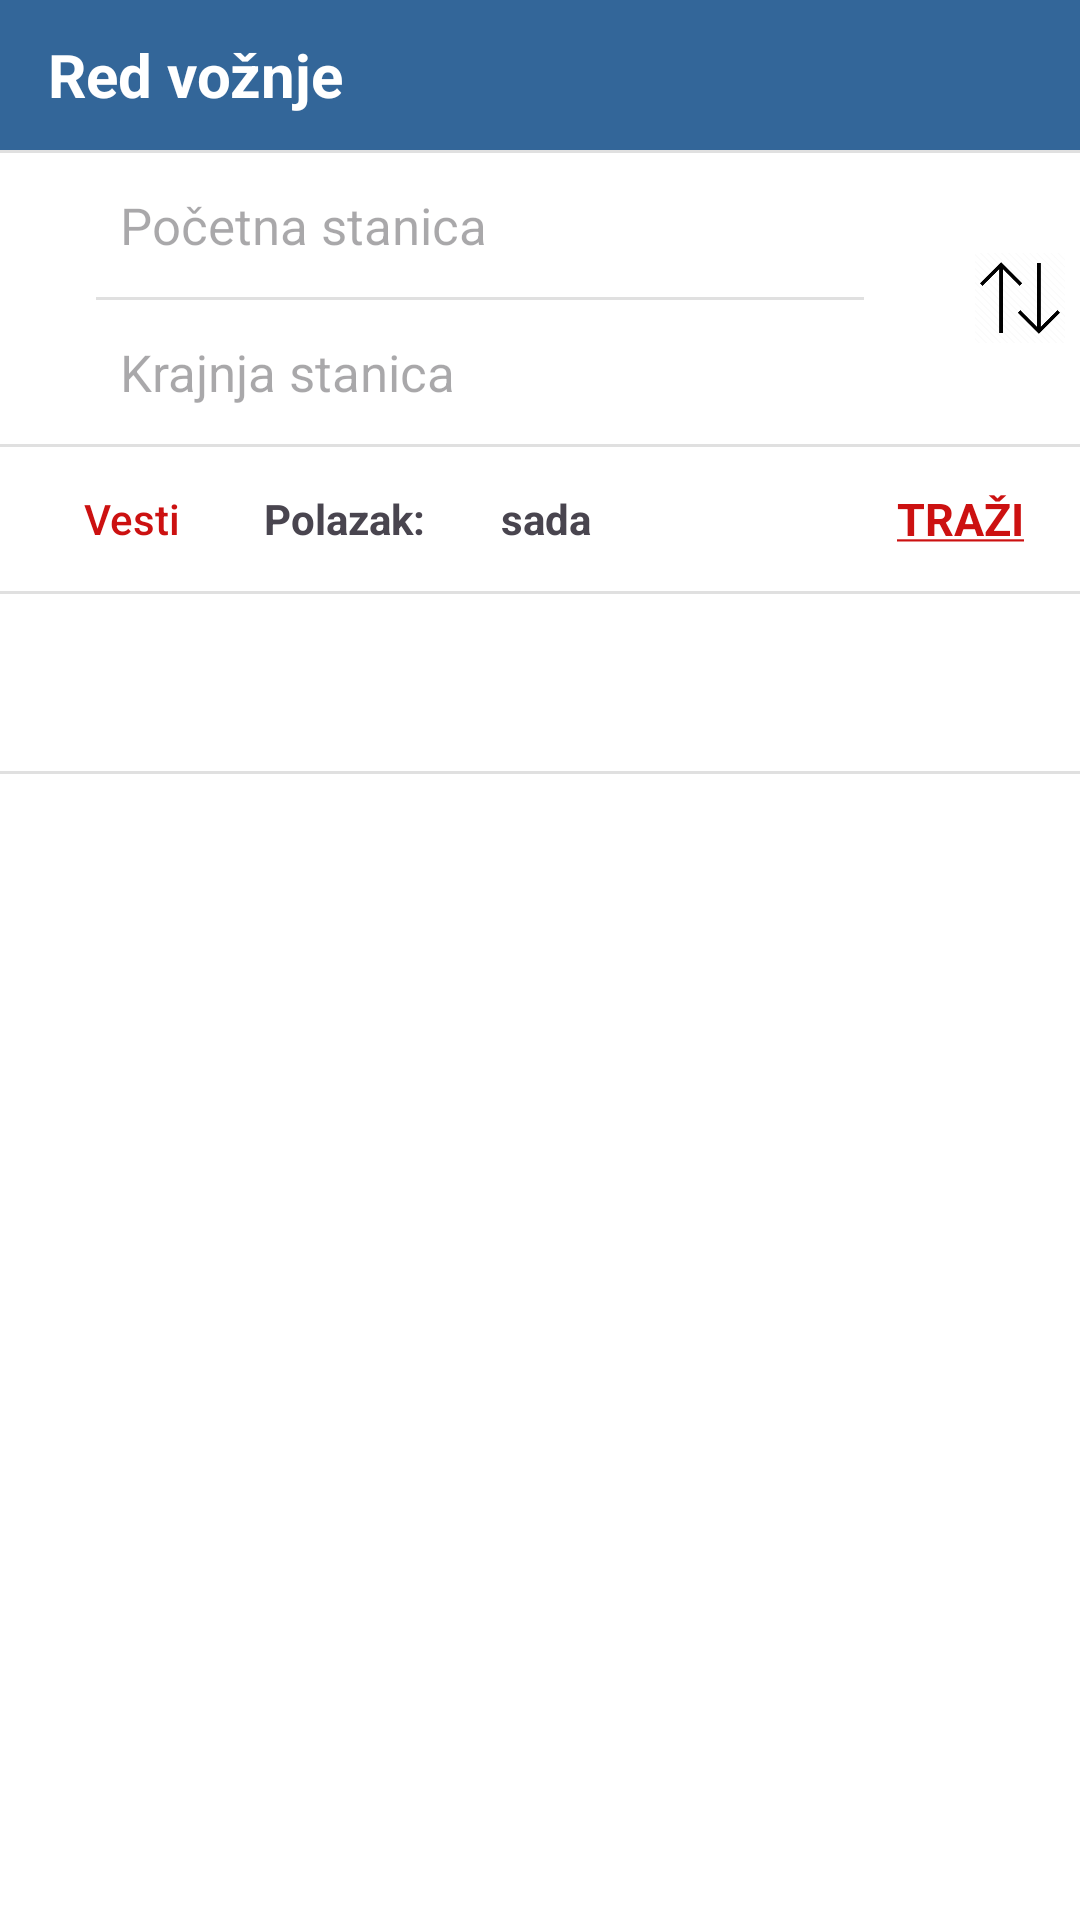

Screen size 1080×1920. Icon name, then its center in pixels as point (x, y):
switch station: point (1020, 298)
